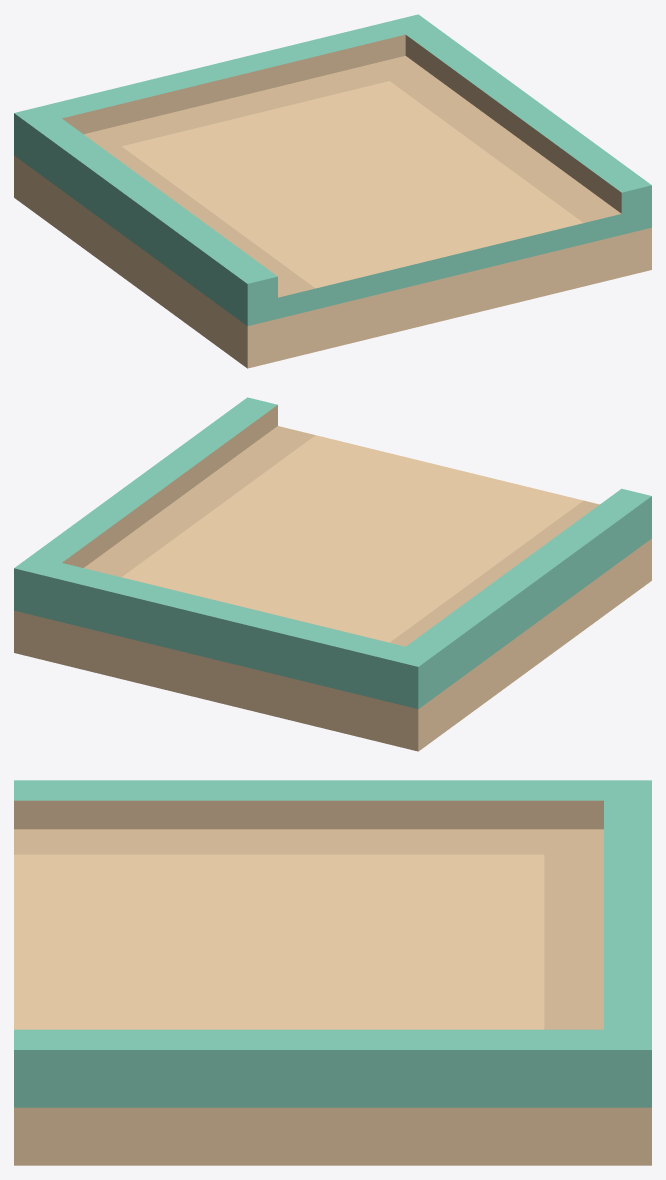
Rendered from tile_end.fbx.
3 renders of one model, top to bottom at view 1: azimuth 30°, elevation 25°; view 2: azimuth 150°, elevation 25°; view 3: azimuth 270°, elevation 25°, orthographic. The views are drawn at different scales.
Visible parts, largest first — view 1: tile_end; view 2: tile_end; view 3: tile_end.
Boxes of the visible parts, x1=… form: tile_end: x1=14, y1=14, x2=651, y2=368; tile_end: x1=14, y1=397, x2=651, y2=751; tile_end: x1=14, y1=780, x2=651, y2=1165.
Bounding box in the file's own units: 100 × 20 × 100.
